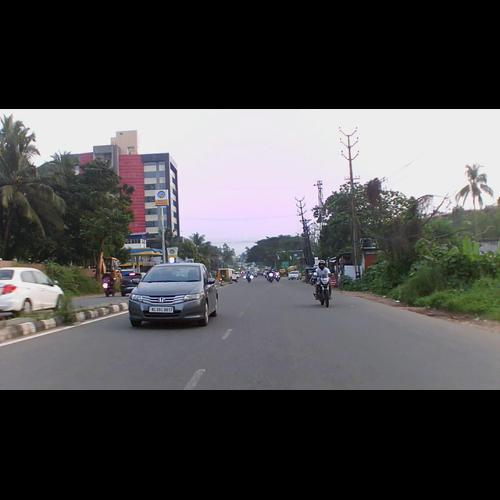car: (126, 261, 216, 323), (1, 266, 68, 317)
